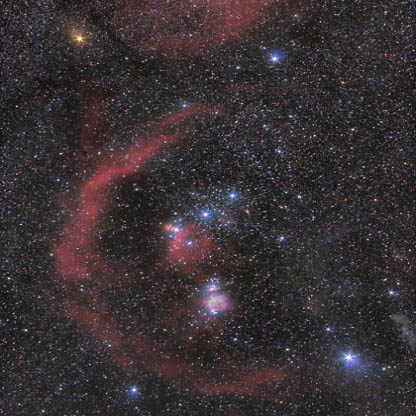Orion: (325, 339, 368, 385), (259, 43, 306, 83), (108, 368, 154, 405), (61, 18, 99, 58), (217, 181, 245, 209), (190, 199, 216, 229), (159, 219, 186, 247)
